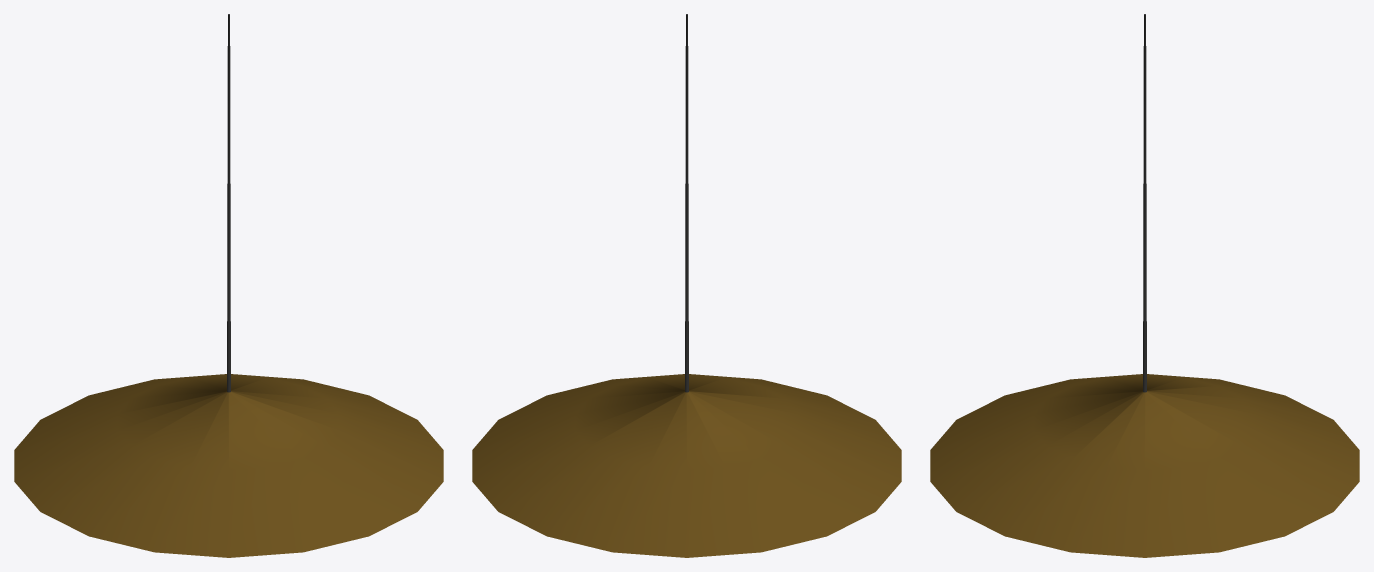
The model's file is Ceiling_Pendant_V1.fbx.
The picture shows the model from 3 angles, left to right: view 1: azimuth 30°, elevation 25°; view 2: azimuth 150°, elevation 25°; view 3: azimuth 270°, elevation 25°; orthographic projection.
Visible parts, largest first — view 1: Cylinder_Cone_2; view 2: Cylinder_Cone_2; view 3: Cylinder_Cone_2.
Part boxes in pixels (x1,y1,x2,y2): Cylinder_Cone_2: [14, 14, 443, 557]; Cylinder_Cone_2: [472, 14, 901, 557]; Cylinder_Cone_2: [930, 14, 1359, 557].
Size of the model in its own units: 74.4 by 85.05 by 73.27.
